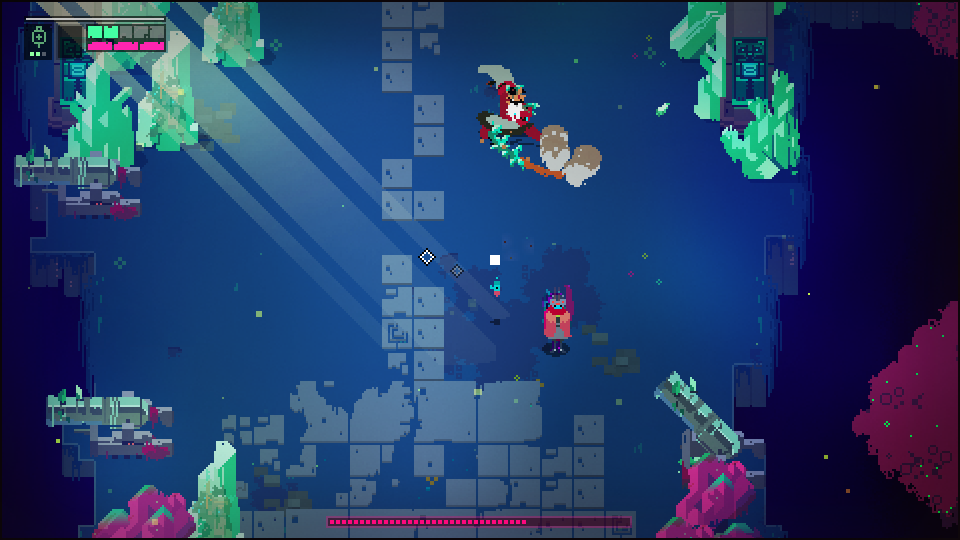hanged_man: (475, 58, 549, 170)
player: (540, 289, 575, 357)
